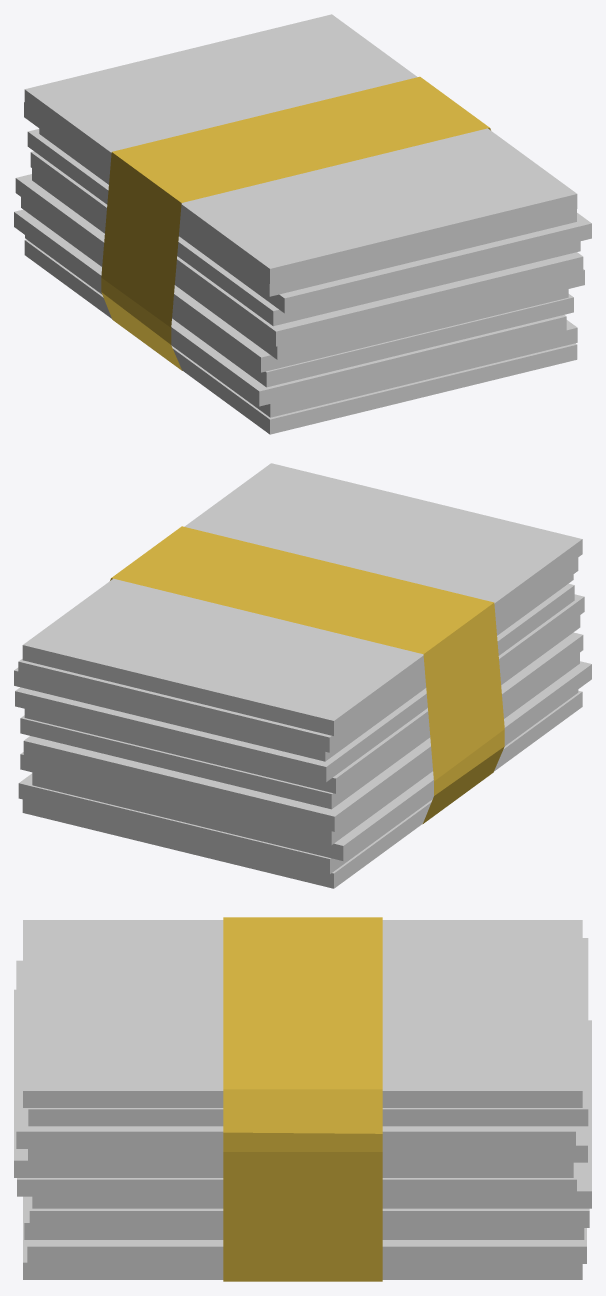
File: paper10091231.fbx
3 renders of one model, top to bottom at view 1: azimuth 30°, elevation 25°; view 2: azimuth 150°, elevation 25°; view 3: azimuth 270°, elevation 25°, orthographic. The views are drawn at different scales.
Parts seen in each view (by area): view 1: 立方体, 平面; view 2: 立方体, 平面; view 3: 立方体, 平面.
Part boxes in pixels (bbox=[...]): 立方体: bbox=[14, 14, 591, 434]; 平面: bbox=[101, 76, 490, 370]; 立方体: bbox=[14, 463, 591, 888]; 平面: bbox=[110, 526, 504, 824]; 立方体: bbox=[14, 920, 591, 1279]; 平面: bbox=[223, 917, 382, 1281].
Bounding box in the file's own units: 1.56 × 0.7565 × 2.07.
